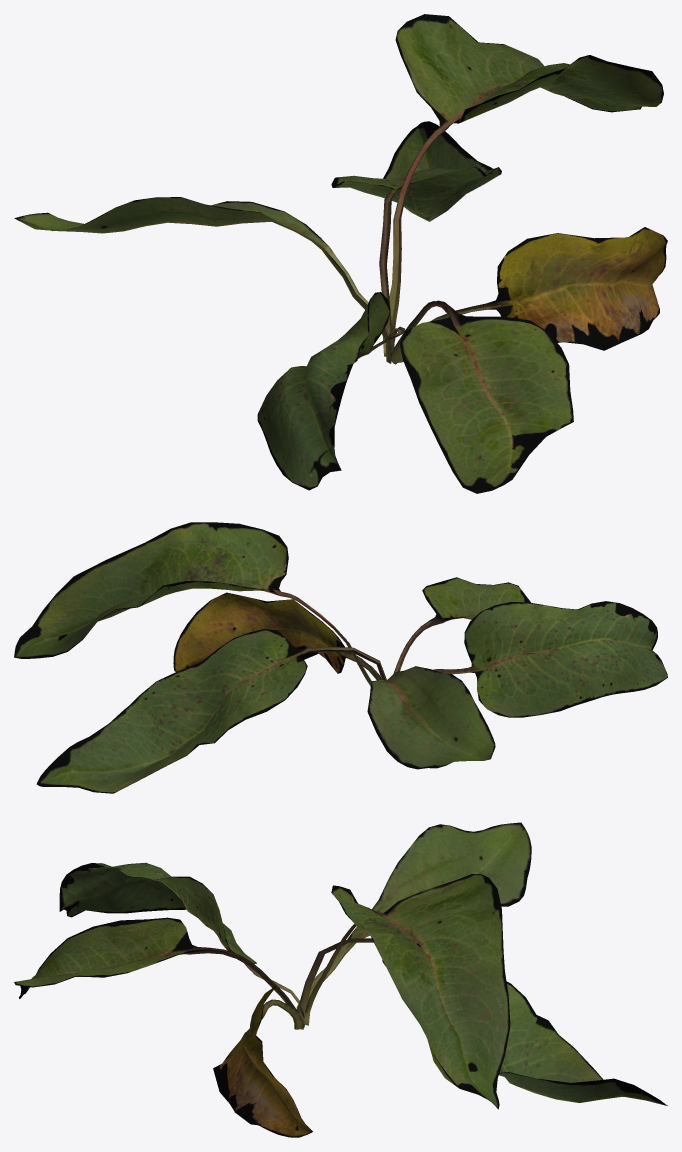
The model's file is weed_plant_02_b.glb.
3 renders of one model, top to bottom at view 1: azimuth 30°, elevation 25°; view 2: azimuth 150°, elevation 25°; view 3: azimuth 270°, elevation 25°, orthographic. The views are drawn at different scales.
Visible parts, largest first — view 1: weed_plant_02_b_LOD0; view 2: weed_plant_02_b_LOD0; view 3: weed_plant_02_b_LOD0.
Part boxes in pixels (x1,y1,x2,y2): weed_plant_02_b_LOD0: (14,14,667,493); weed_plant_02_b_LOD0: (14,522,667,793); weed_plant_02_b_LOD0: (14,822,667,1137).
Bounding box in the file's own units: 0.1875 × 0.0677 × 0.1985.
Materials: 1 (1 with a texture image).
